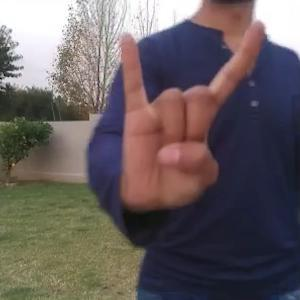takeoff-hand: (113, 13, 275, 216)
